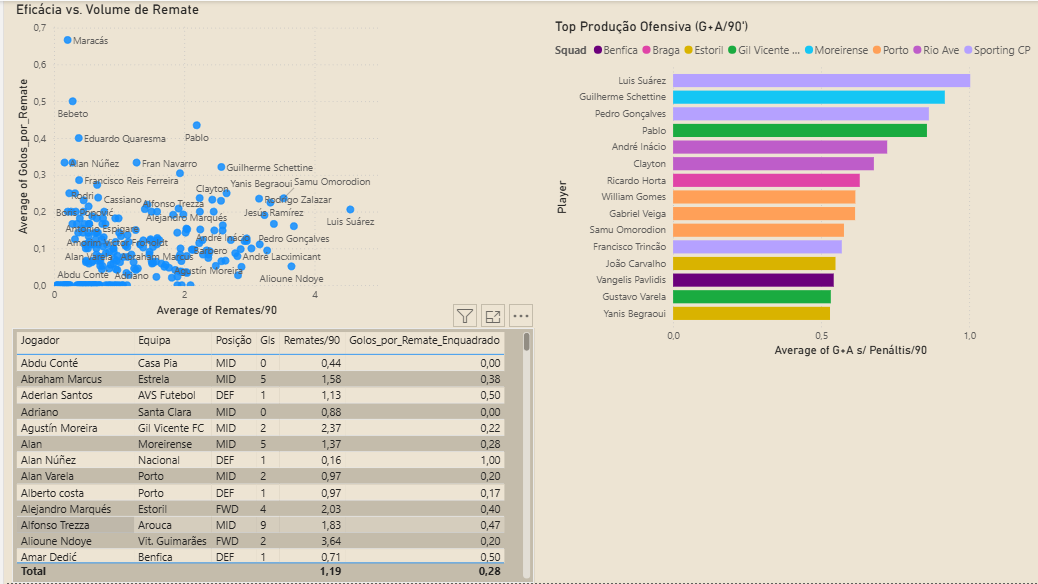

The page's visual inventory and layout, read from the dashboard file:
{"tool":"powerbi","page":{"name":"Page 3","canvas":[1280,720],"ordinal":2},"visuals":[{"type":"scatterChart","title":"Eficácia vs. Volume de Remate","fields":{"X":["LigaPortugal_2025_2026.Remates/90"],"Category":["LigaPortugal_2025_2026.Player"],"Y":["Avg(LigaPortugal_2025_2026.Golos_por_Remate)"]},"box":[9.9,0,463.8,394.5],"z":0},{"type":"tableEx","fields":{"Values":["LigaPortugal_2025_2026.Player","LigaPortugal_2025_2026.Squad","LigaPortugal_2025_2026.Grupo_Posicao","LigaPortugal_2025_2026.Gls","Avg(LigaPortugal_2025_2026.Remates/90)","Avg(LigaPortugal_2025_2026.Golos_por_Remate_Enquadrado)"]},"box":[9.9,404.4,645.6,315.4],"z":1000},{"type":"barChart","title":"Top Produção Ofensiva (G+A/90'')","fields":{"Category":["LigaPortugal_2025_2026.Player"],"Y":["Avg(LigaPortugal_2025_2026.G+A s/ Penáltis/90)"],"Series":["LigaPortugal_2025_2026.Squad"]},"box":[676.5,21,603.5,424.2],"z":2000}]}

Visuals, with their boxes in screenshot pixels (x1, y1, x2, y2), scaled from the page's 1280x720 canvas onto the 1038x584 screenshot:
"Eficácia vs. Volume de Remate" scatterChart: locate(8, 0, 384, 320)
tableEx - LigaPortugal_2025_2026.Player x LigaPortugal_2025_2026.Squad: locate(8, 328, 532, 583)
"Top Produção Ofensiva (G+A/90'')" barChart: locate(549, 17, 1037, 361)
